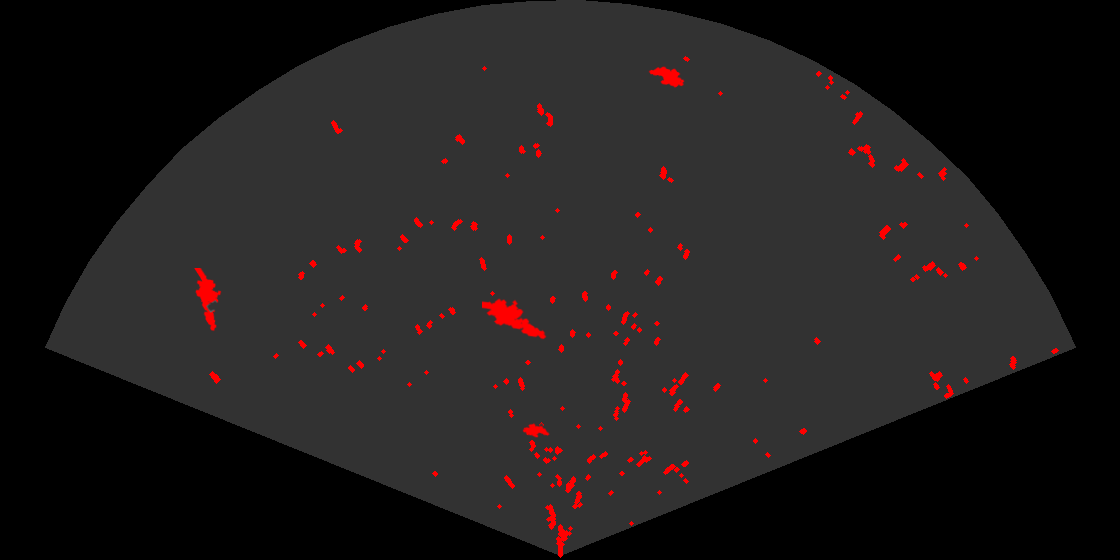AUV: (647, 65, 686, 89), (521, 421, 551, 439)
frogman: (482, 297, 548, 341), (193, 268, 223, 333)
